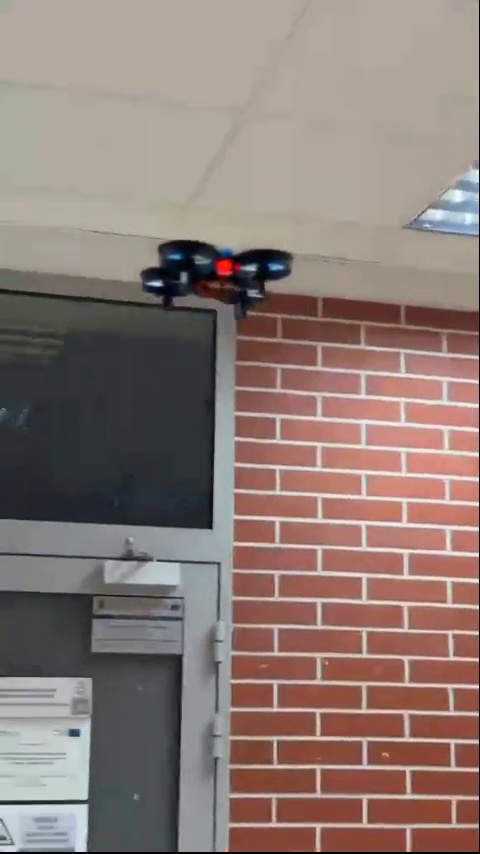drone: (141, 240, 292, 321)
